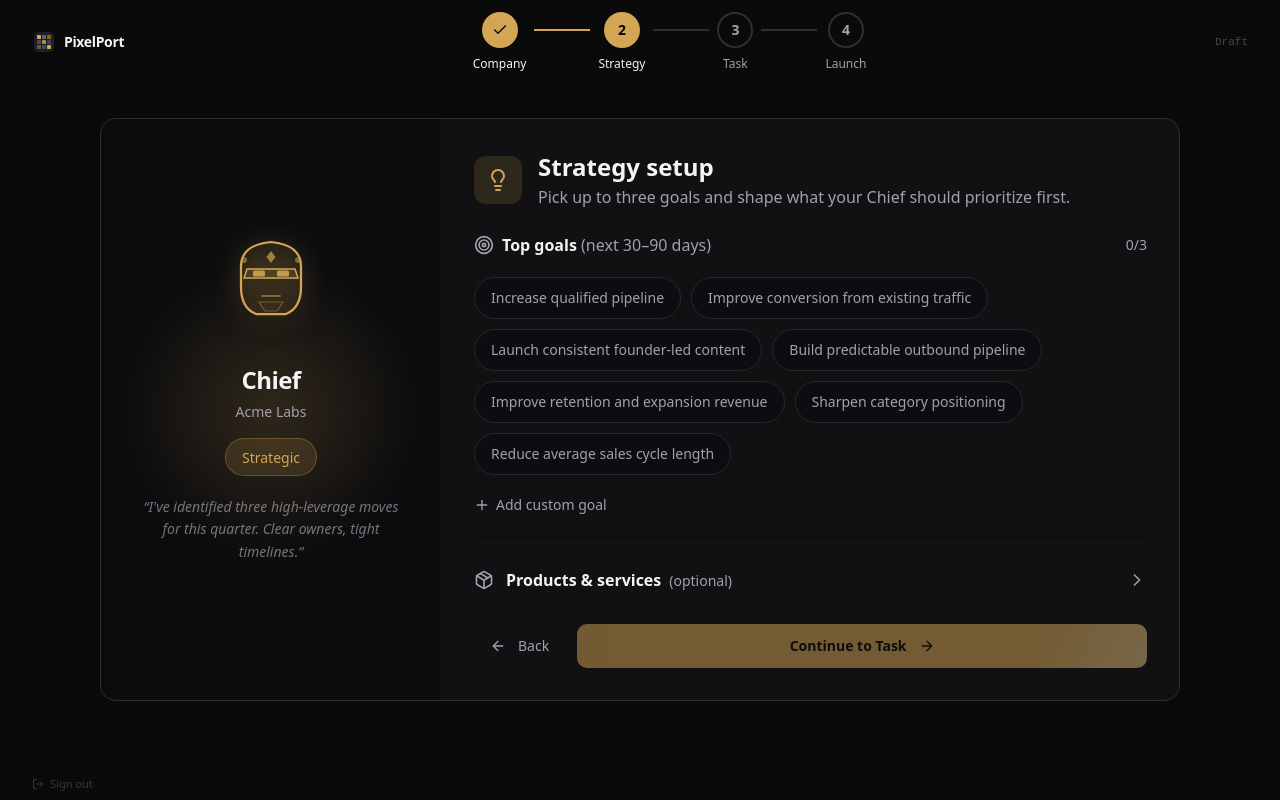
Test: Onboarding flow › does not force tenant refresh on strategy step save
Check: the button "Continue to Task" is shown, box [577,624,1147,668]
Click the button "Increase qualified pipeline": click(578, 298) [474,277,681,319]
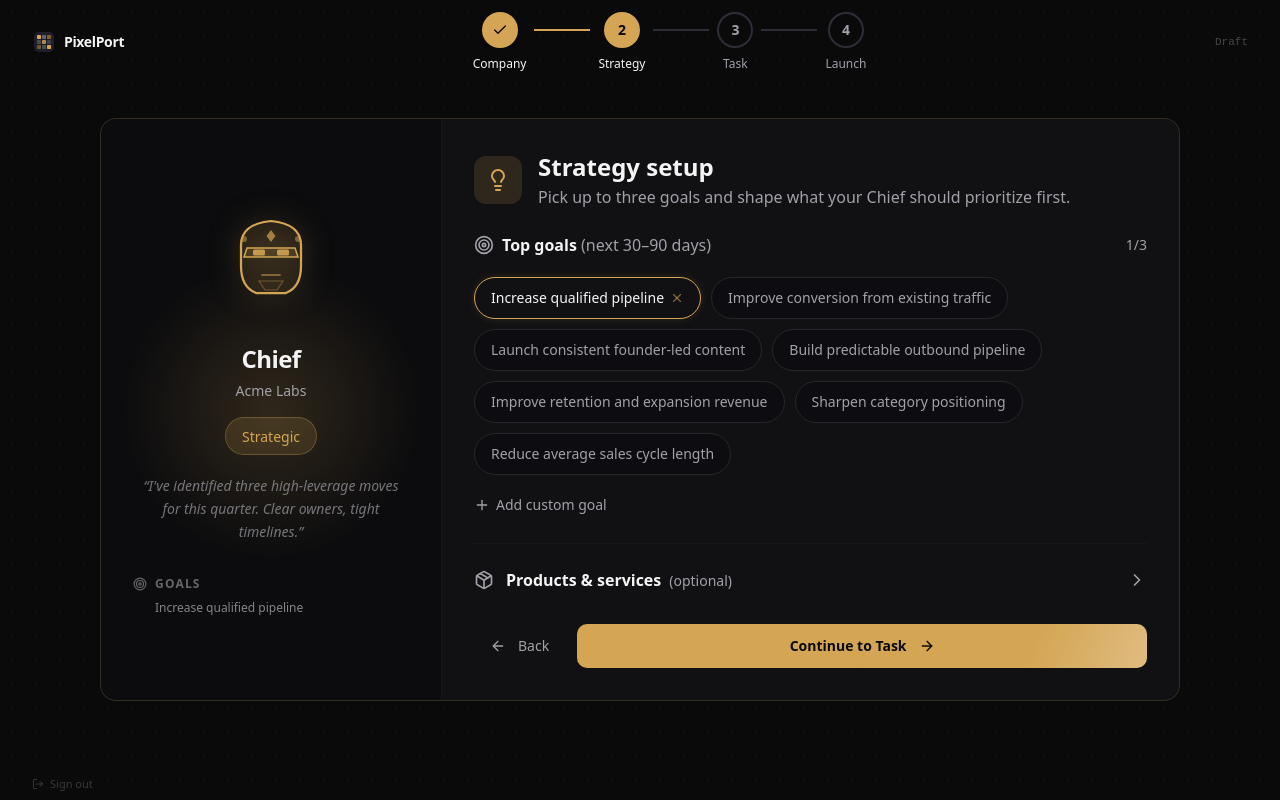
Click the button "Continue to Task": click(862, 646) [577,624,1147,668]
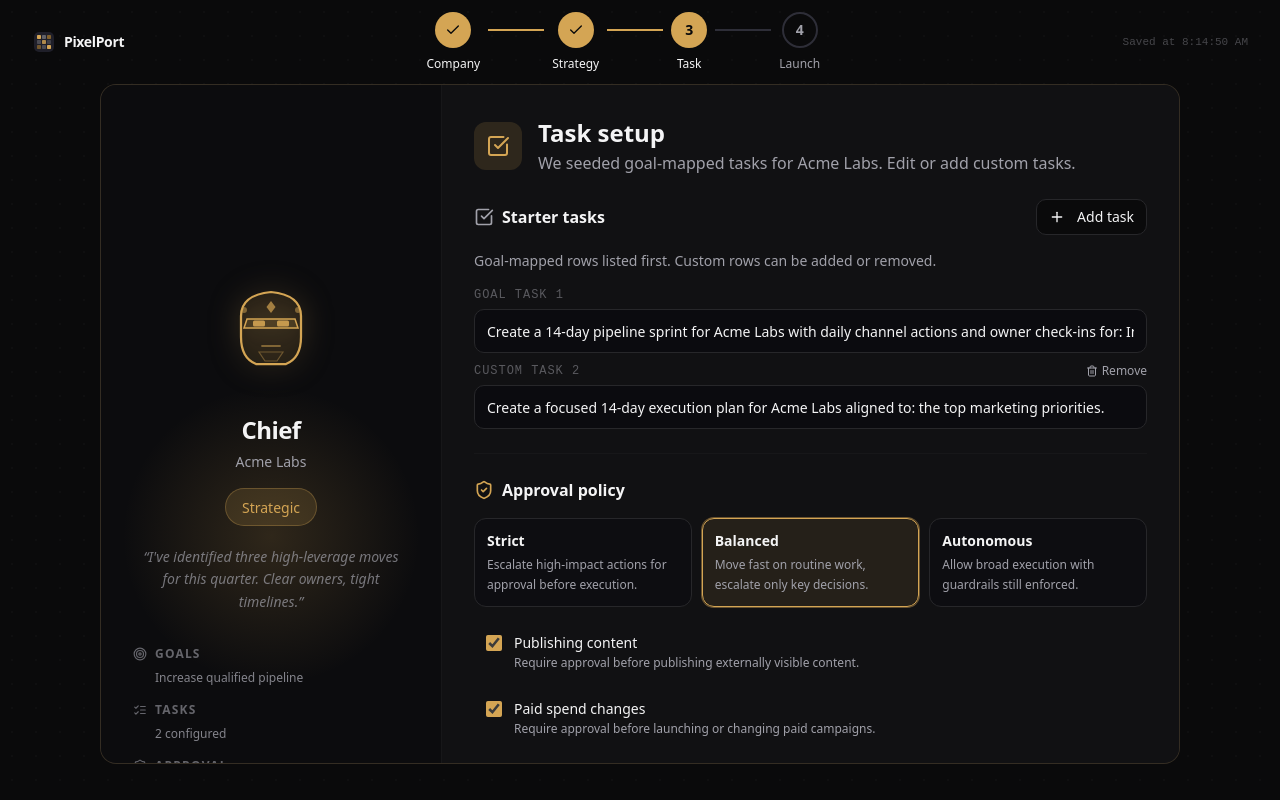
Check: the heading "Task setup" is shown, box [538,116,665,149]
